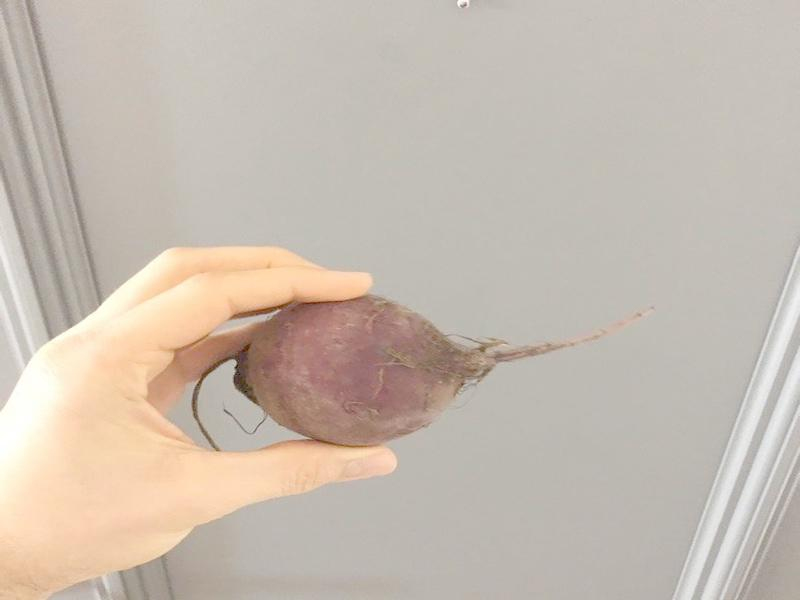Beet: (194, 298, 664, 449)
